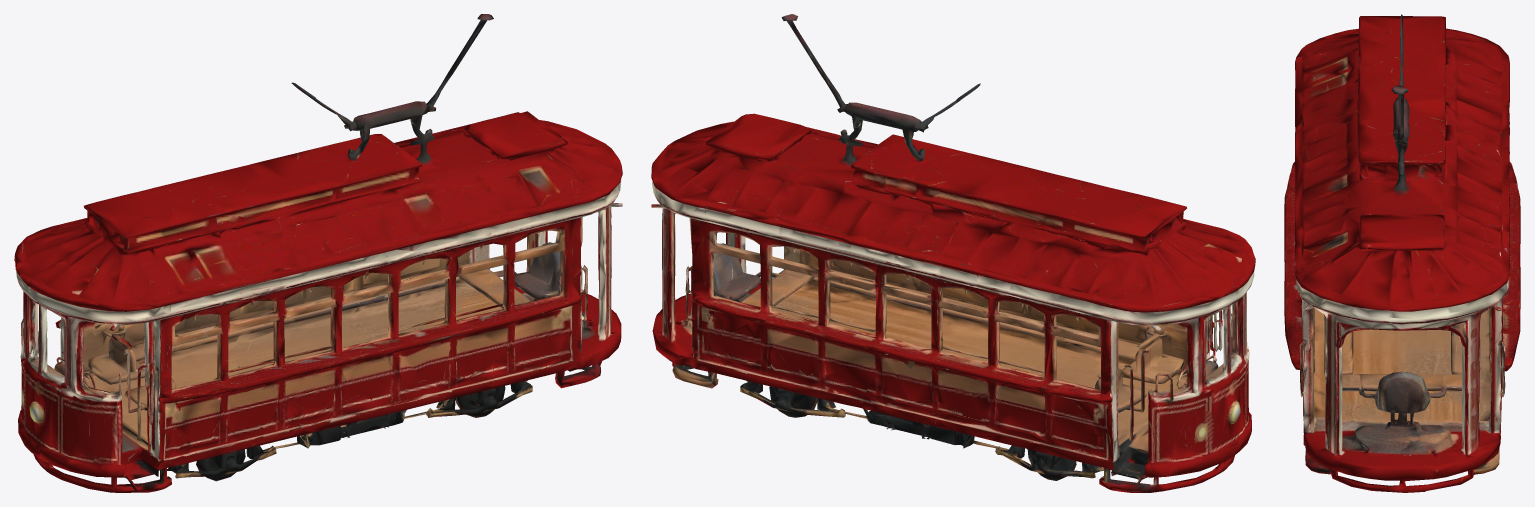
File: tram-enamel.glb
3 renders of one model, left to right at view 1: azimuth 30°, elevation 25°; view 2: azimuth 150°, elevation 25°; view 3: azimuth 270°, elevation 25°, orthographic.
Bounding box in the file's own units: 2 × 1.22 × 0.7035.
Materials: 1 (1 with a texture image).
